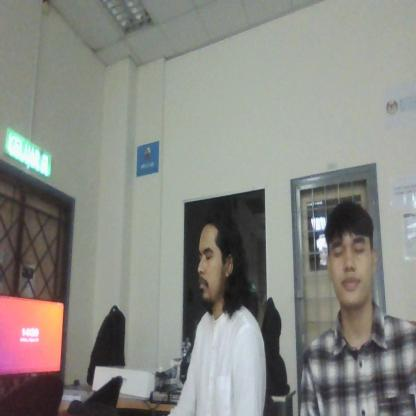Closed-Eyes: (328, 229, 369, 268), (199, 243, 218, 268)
